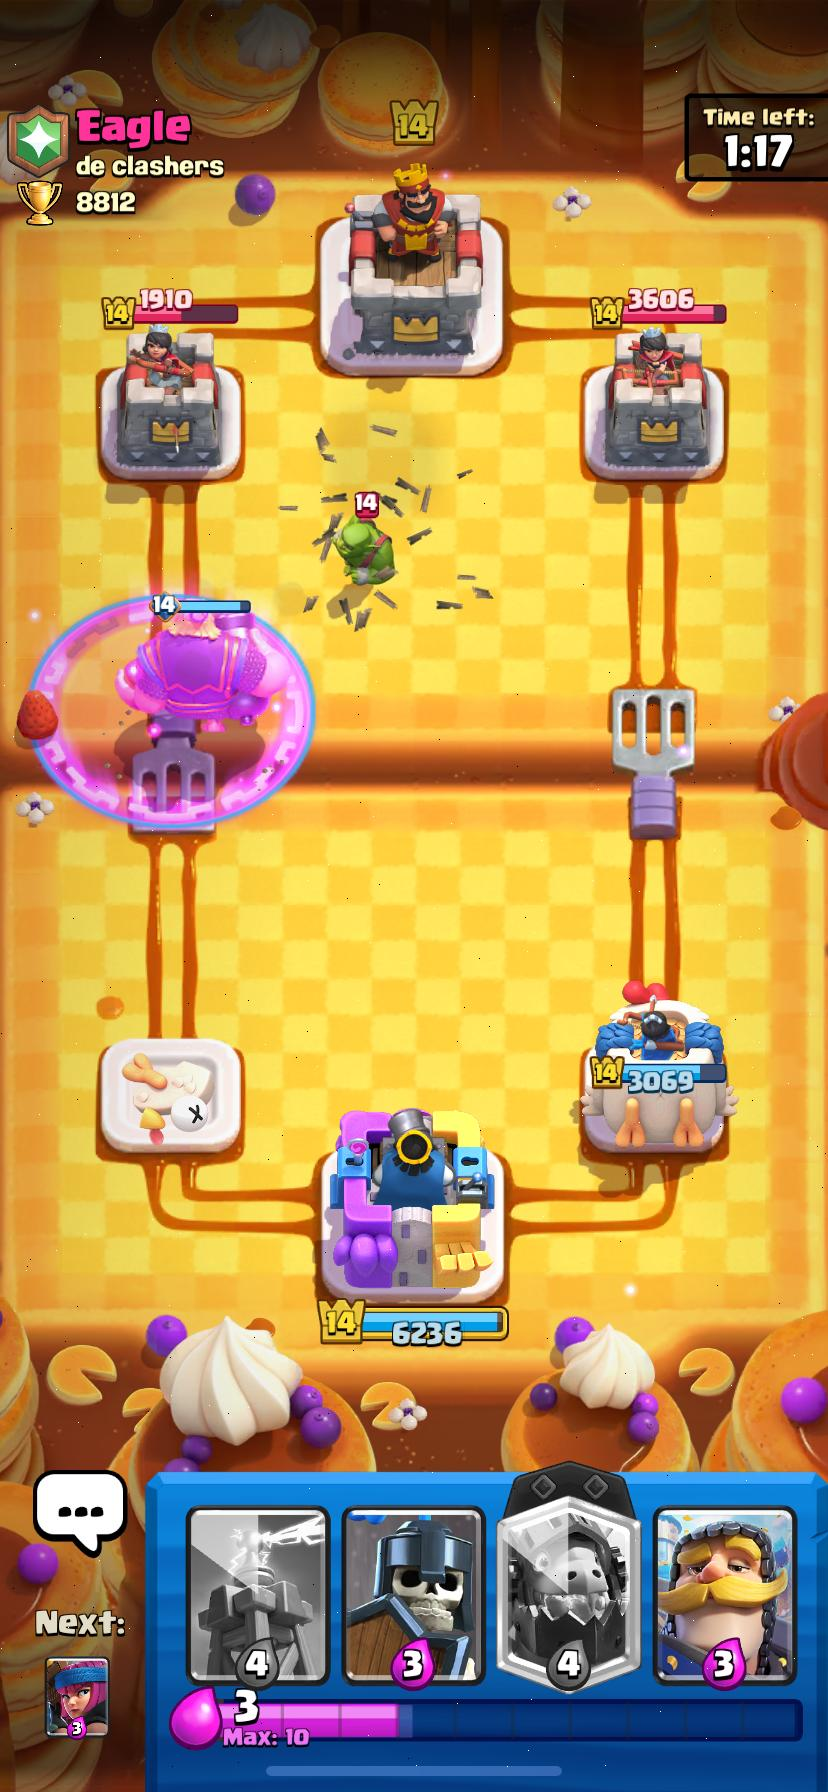EBrawler: (331, 512, 393, 586)
EKingTower: (348, 165, 483, 373)
EnemyPrincessTower: (101, 325, 241, 480), (586, 328, 724, 480)
OEVRoyalG: (117, 611, 289, 731)
OwnKingTower: (329, 1109, 494, 1299)
OwnPrincessTower: (580, 982, 735, 1151)
TowerDown: (99, 1037, 241, 1155)
